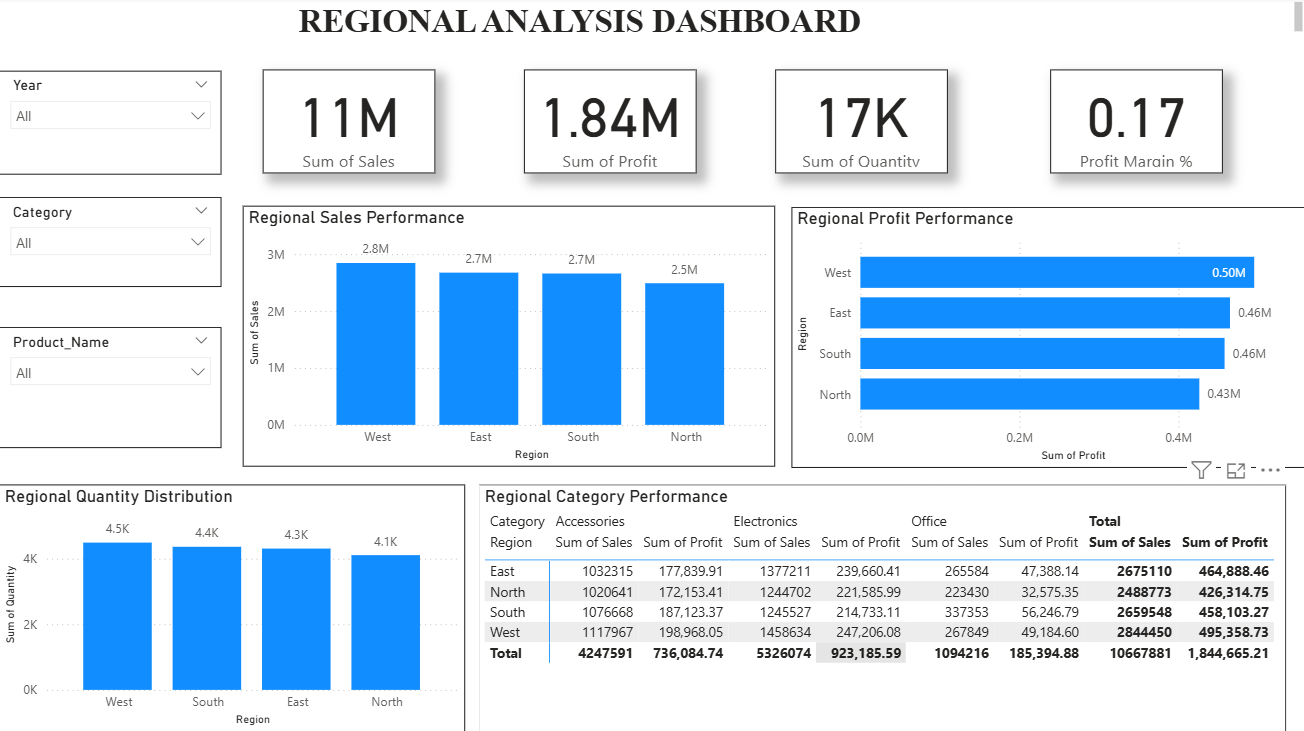

Layout of this report page (visuals, bound fields, positions):
{"tool":"powerbi","page":{"name":"REGIONAL ANALYSIS DASHBOARD","canvas":[1280,720],"ordinal":2},"visuals":[{"type":"textbox","box":[0,0,1280.3,42.5],"z":0},{"type":"clusteredColumnChart","title":"Regional Sales Performance","fields":{"Category":["ecommerce_sales_cleaned.Region"],"Y":["Sum(ecommerce_sales_cleaned.Sales)"]},"box":[238.5,204.2,520.9,255.6],"z":1000},{"type":"clusteredBarChart","title":"Regional Profit Performance","fields":{"Category":["ecommerce_sales_cleaned.Region"],"Y":["Sum(ecommerce_sales_cleaned.Profit)"]},"box":[775.3,205.4,505,255.6],"z":2000},{"type":"clusteredColumnChart","title":"Regional Quantity Distribution","fields":{"Category":["ecommerce_sales_cleaned.Region"],"Y":["Sum(ecommerce_sales_cleaned.Quantity)"]},"box":[0,476.9,456.1,242.1],"z":3000},{"type":"pivotTable","title":"Regional Category Performance","fields":{"Rows":["ecommerce_sales_cleaned.Region"],"Columns":["ecommerce_sales_cleaned.Category"],"Values":["Sum(ecommerce_sales_cleaned.Sales)","Sum(ecommerce_sales_cleaned.Profit)"]},"box":[469.6,476.9,789.9,243.3],"z":4000},{"type":"slicer","fields":{"Values":["ecommerce_sales_cleaned.Year"]},"box":[0,72.1,217.7,101.5],"z":5000},{"type":"slicer","fields":{"Values":["ecommerce_sales_cleaned.Category"]},"box":[0,195.7,217.7,88],"z":6000},{"type":"slicer","fields":{"Values":["ecommerce_sales_cleaned.Product_Name"]},"box":[0,322.8,217.7,118.6],"z":7000},{"type":"card","fields":{"Values":["Sum(ecommerce_sales_cleaned.Sales)"]},"box":[258,70.9,168.8,101.5],"z":8000},{"type":"card","fields":{"Values":["Sum(ecommerce_sales_cleaned.Profit)"]},"box":[513.6,70.9,168.8,101.5],"z":9000},{"type":"card","fields":{"Values":["Sum(ecommerce_sales_cleaned.Quantity)"]},"box":[759.4,70.9,168.8,101.5],"z":10000},{"type":"card","fields":{"Values":["ecommerce_sales_cleaned.Profit Margin %"]},"box":[1028.4,70.9,168.8,101.5],"z":11000}]}

Visuals, with their boxes in screenshot pixels (x1, y1, x2, y2), scaled from the page's 1280x720 canvas onto the 1304x731 screenshot:
textbox: 0,0,1303,43
"Regional Sales Performance" clusteredColumnChart: 243,207,774,467
"Regional Profit Performance" clusteredBarChart: 790,209,1303,468
"Regional Quantity Distribution" clusteredColumnChart: 0,484,465,730
"Regional Category Performance" pivotTable: 478,484,1283,730
slicer - ecommerce_sales_cleaned.Year: 0,73,222,176
slicer - ecommerce_sales_cleaned.Category: 0,199,222,288
slicer - ecommerce_sales_cleaned.Product_Name: 0,328,222,448
card - Sum(ecommerce_sales_cleaned.Sales): 263,72,435,175
card - Sum(ecommerce_sales_cleaned.Profit): 523,72,695,175
card - Sum(ecommerce_sales_cleaned.Quantity): 774,72,946,175
card - ecommerce_sales_cleaned.Profit Margin %: 1048,72,1220,175
